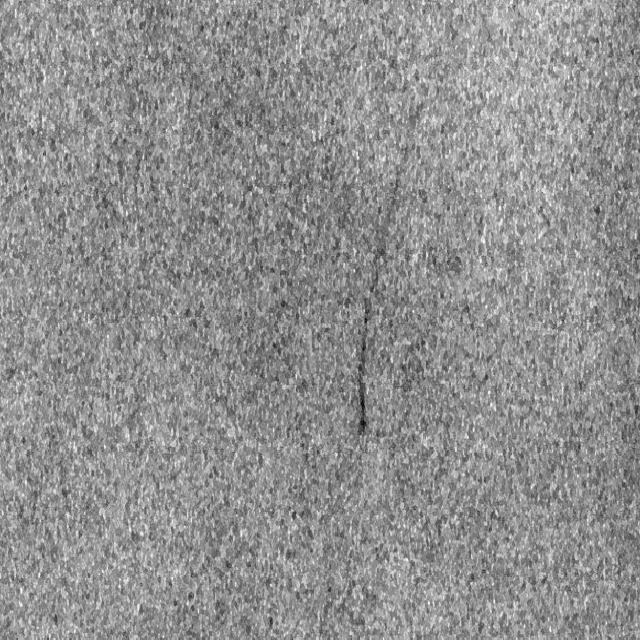oil-spill: (347, 109, 425, 438)
